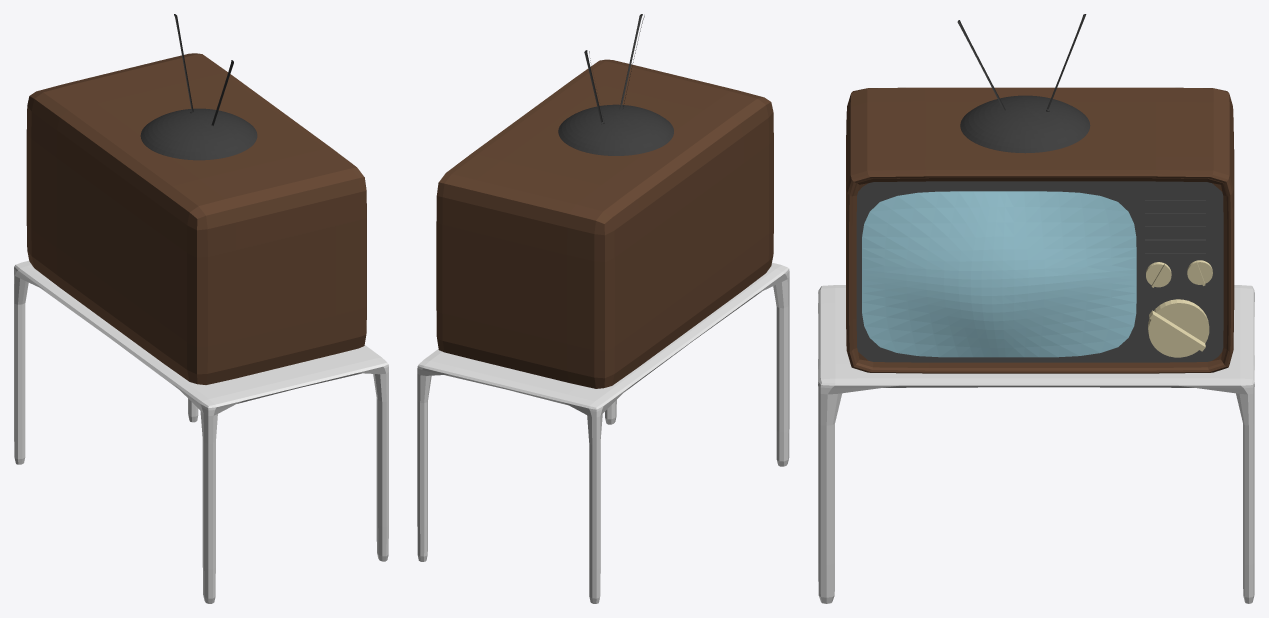
The picture shows the model from 3 angles, left to right: view 1: azimuth 30°, elevation 25°; view 2: azimuth 150°, elevation 25°; view 3: azimuth 270°, elevation 25°; orthographic projection. The views are drawn at different scales.
Visible parts, largest first — view 1: Cube, Cube.001, Sphere; view 2: Cube, Cube.001, Sphere; view 3: Plane, Cube, Plane.001, Cube.001, Sphere, Cylinder.003.
Part boxes in pixels (x1,y1,x2,y2): Cube: (26,53,366,384); Cube.001: (14,260,388,603); Sphere: (140,108,257,160); Cube: (436,59,773,388); Cube.001: (417,262,789,603); Sphere: (558,104,673,155); Plane: (862,191,1136,357); Cube: (846,87,1234,373); Plane.001: (856,181,1223,362); Cube.001: (818,285,1254,603); Sphere: (960,95,1090,153); Cylinder.003: (1148,299,1209,357).
Size of the model in its own units: 213 by 536 by 394.
